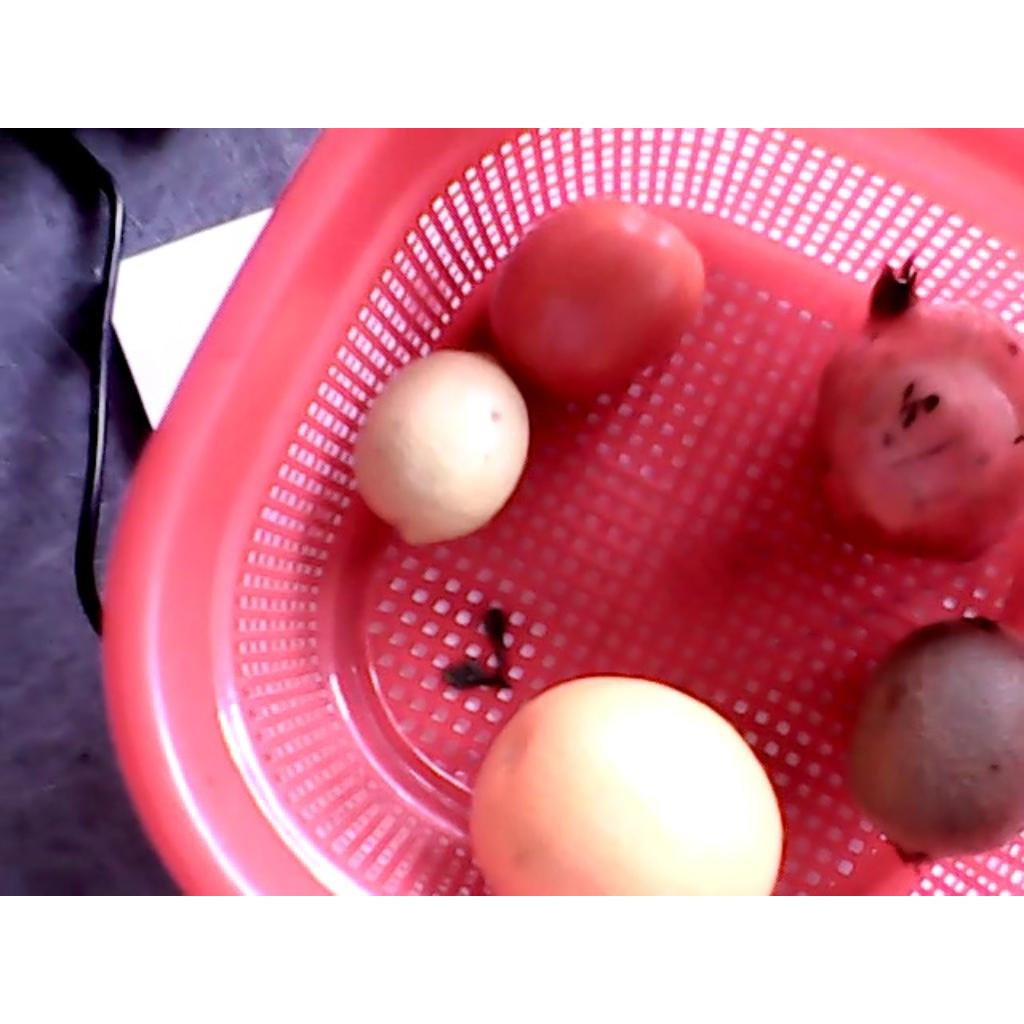kiwi: (844, 613, 1020, 867)
lemon: (353, 348, 532, 541)
orange: (470, 677, 788, 893)
pomegranate: (814, 257, 1022, 567)
tomato: (488, 194, 703, 397)
